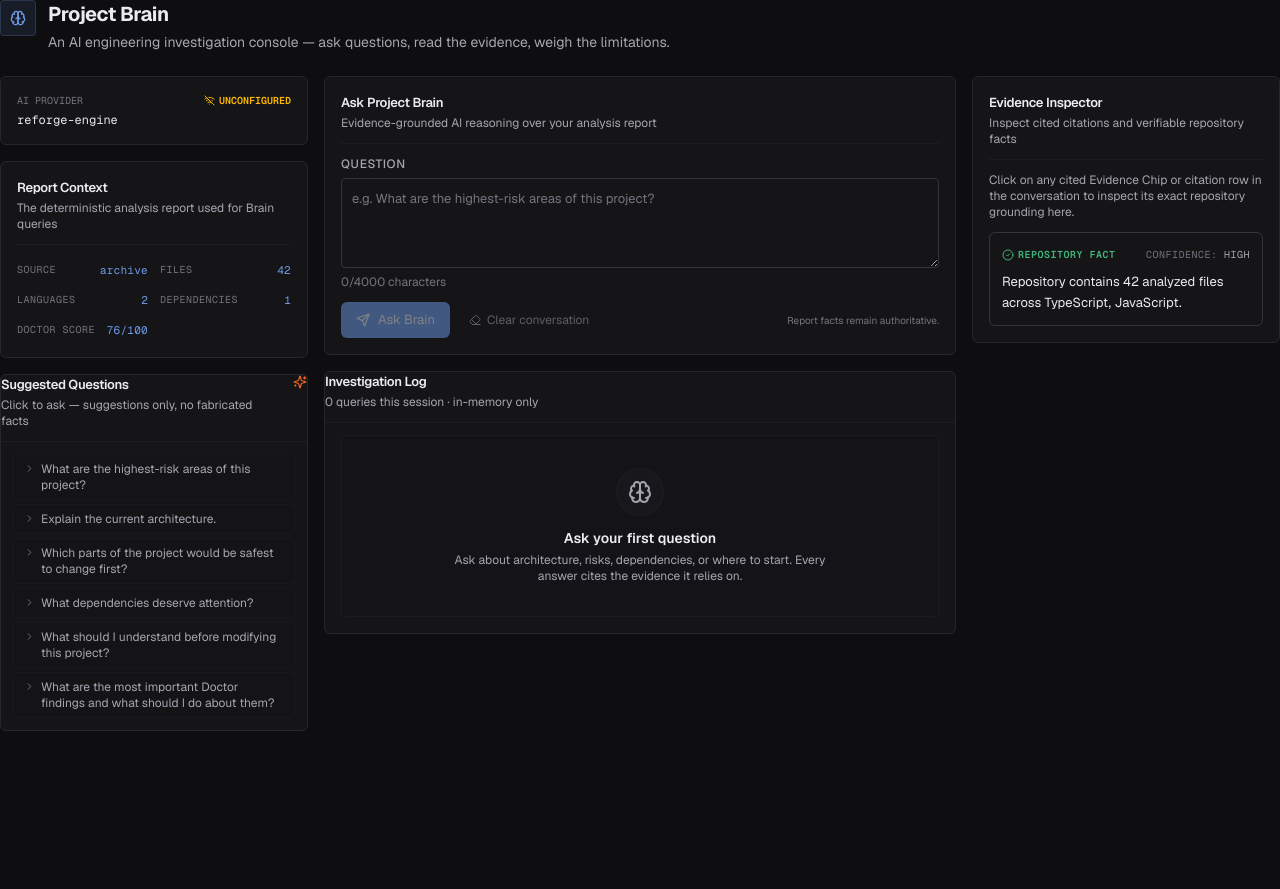
Test case: Project Brain › shows the provider-unavailable state on 503
In the text box labelled "Question": (640, 223) [341, 178, 939, 268], type "What are the risks?"
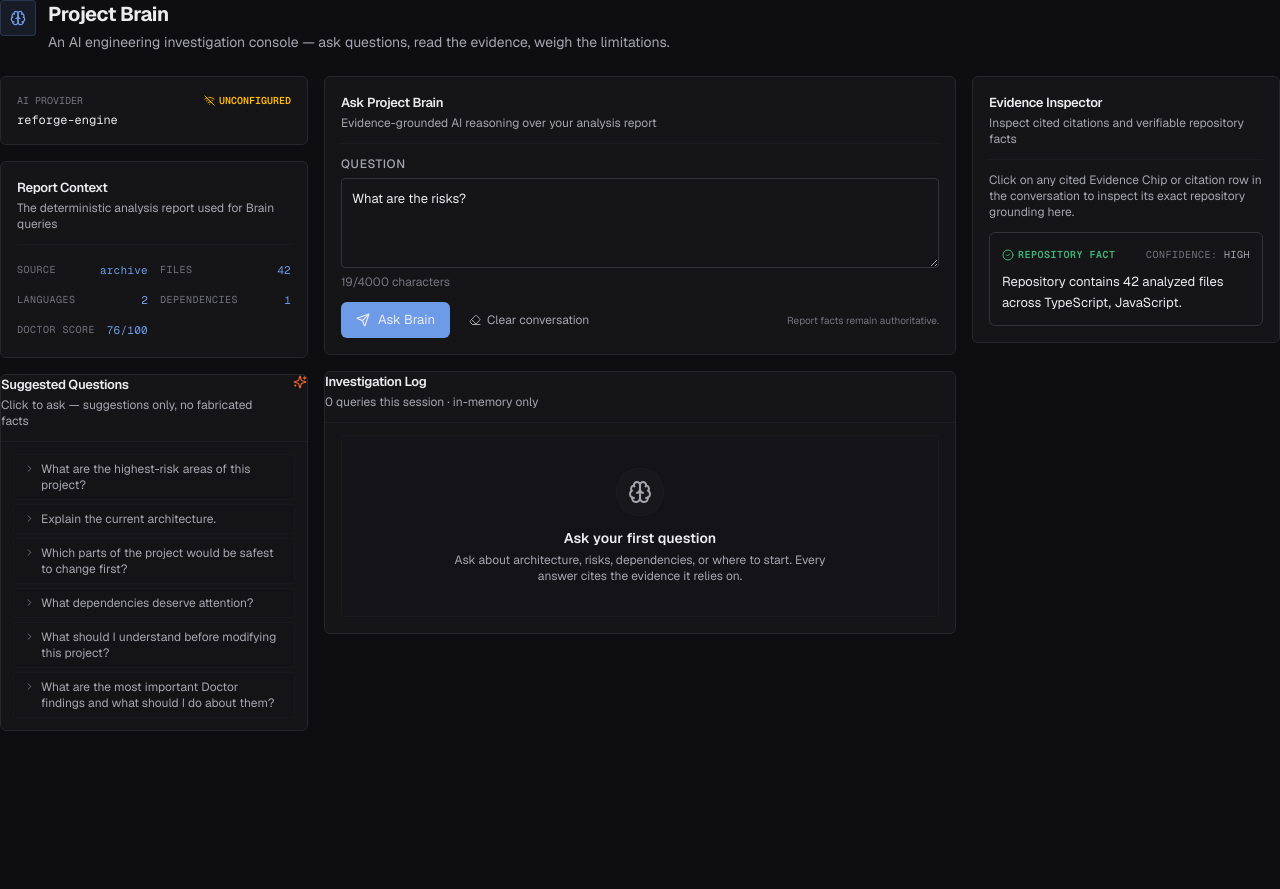
Click the button "Ask Brain": (396, 320) [341, 302, 450, 338]
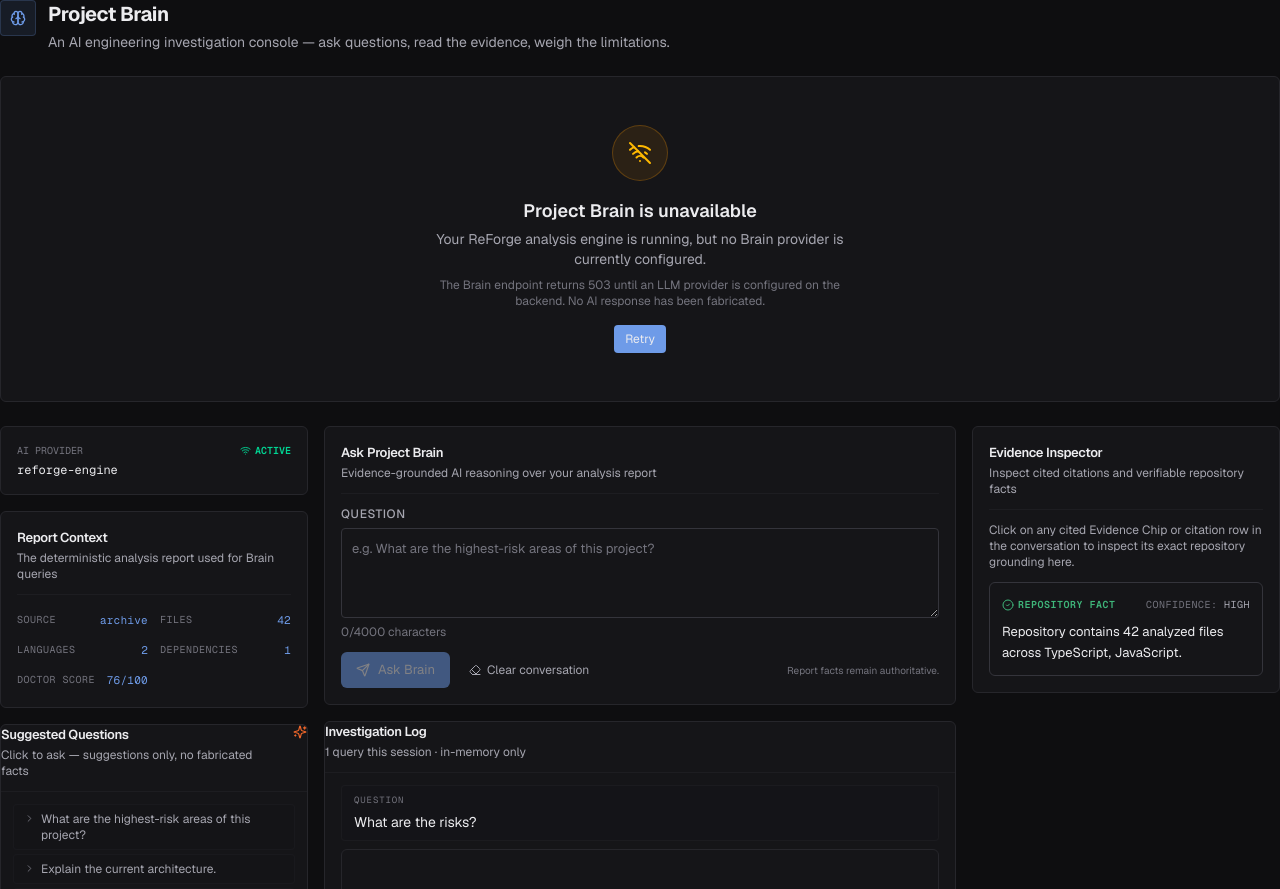
Now the heading "Project Brain is unavailable" is shown, box [523, 199, 757, 222]
Now the text "Your ReForge analysis engine is running, but no Brain provider is currently configured." is shown, box [436, 230, 844, 268]
Now the button "Retry" is shown, box [614, 325, 666, 353]
